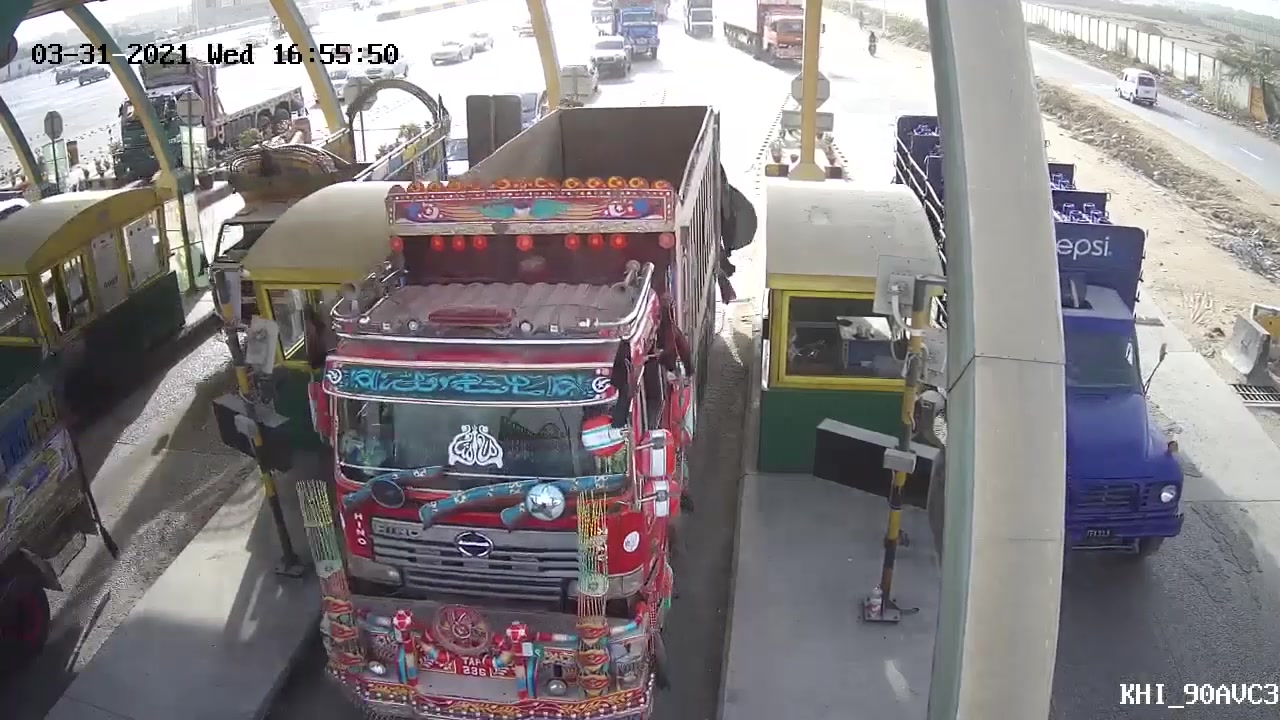F5: (307, 104, 730, 716)
